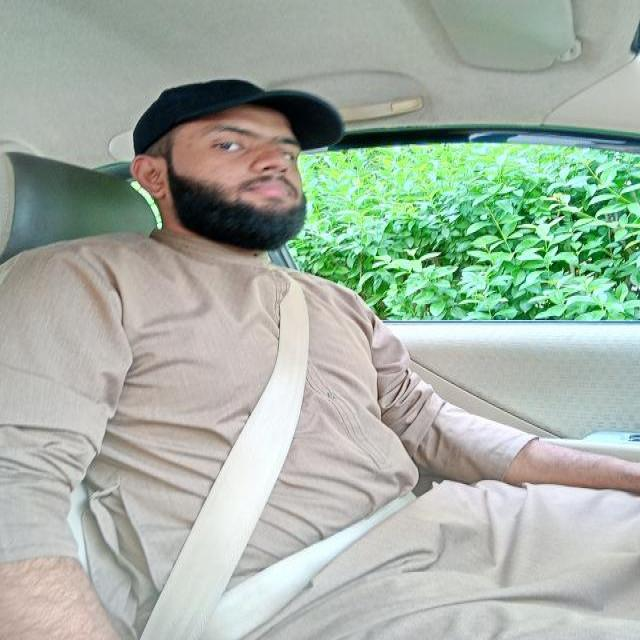seatbelt: (56, 258, 471, 640)
